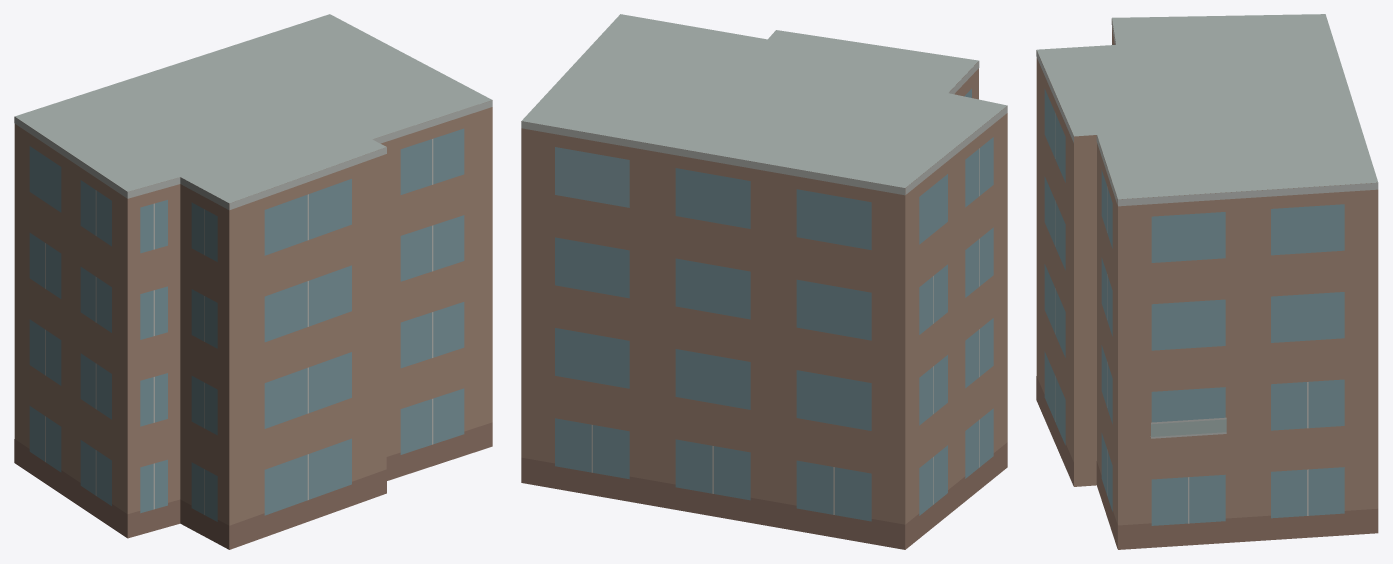
Rendered from survey-upis-32500810.glb.
3 views of the same model, side by side, from view 1: azimuth 30°, elevation 25°; view 2: azimuth 150°, elevation 25°; view 3: azimuth 270°, elevation 25° (orthographic). The views are drawn at different scales.
Visible parts, largest first — view 1: survey-upis-32500810.tmp; view 2: survey-upis-32500810.tmp; view 3: survey-upis-32500810.tmp.
Boxes of the visible parts, x1=… form: survey-upis-32500810.tmp: x1=14, y1=14, x2=492, y2=549; survey-upis-32500810.tmp: x1=521, y1=14, x2=1007, y2=549; survey-upis-32500810.tmp: x1=1036, y1=14, x2=1378, y2=549.
Bounding box in the file's own units: 13.84 × 12.2 × 10.79.
